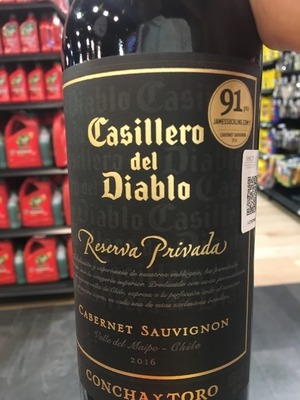casillero del diablo reserva privada cabernet sauvignon: (63, 9, 271, 400)
